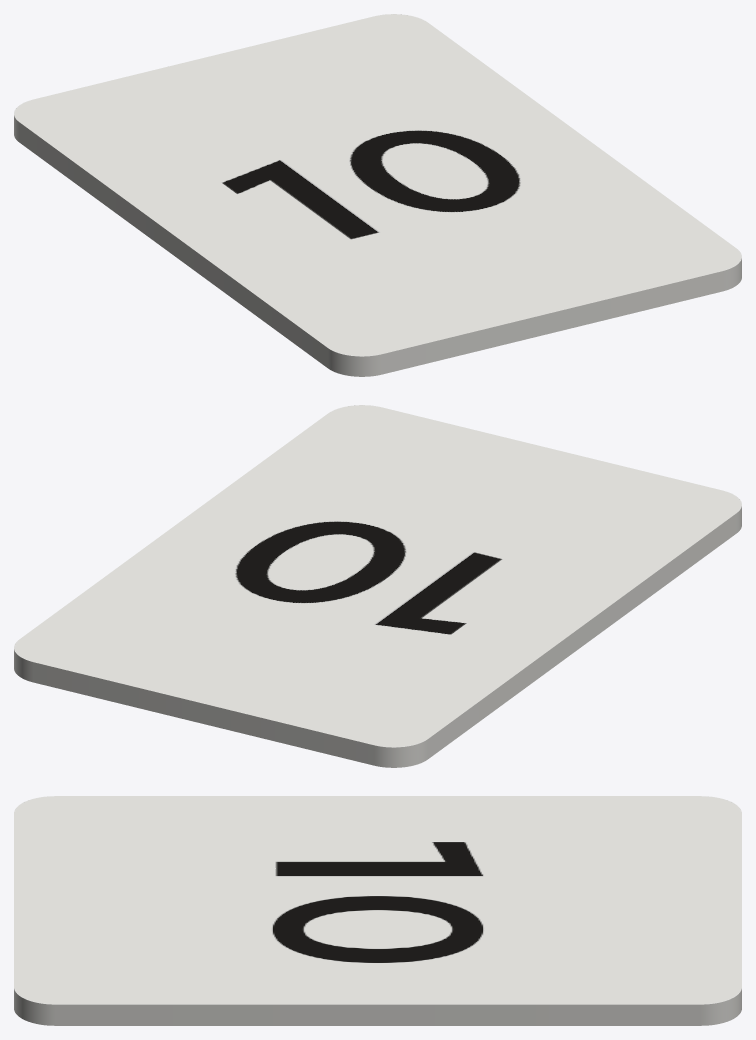
Rendered from white_10.glb.
3 renders of one model, top to bottom at view 1: azimuth 30°, elevation 25°; view 2: azimuth 150°, elevation 25°; view 3: azimuth 270°, elevation 25°, orthographic. The views are drawn at different scales.
Parts seen in each view (by area): view 1: white_10; view 2: white_10; view 3: white_10.
Part boxes in pixels (left/top/right/bottom): white_10: left=14, top=14, right=741, bottom=376; white_10: left=14, top=405, right=741, bottom=767; white_10: left=14, top=796, right=741, bottom=1025.
Bounding box in the file's own units: 0.042 × 0.002 × 0.062.
Materials: 2 (1 with a texture image).
